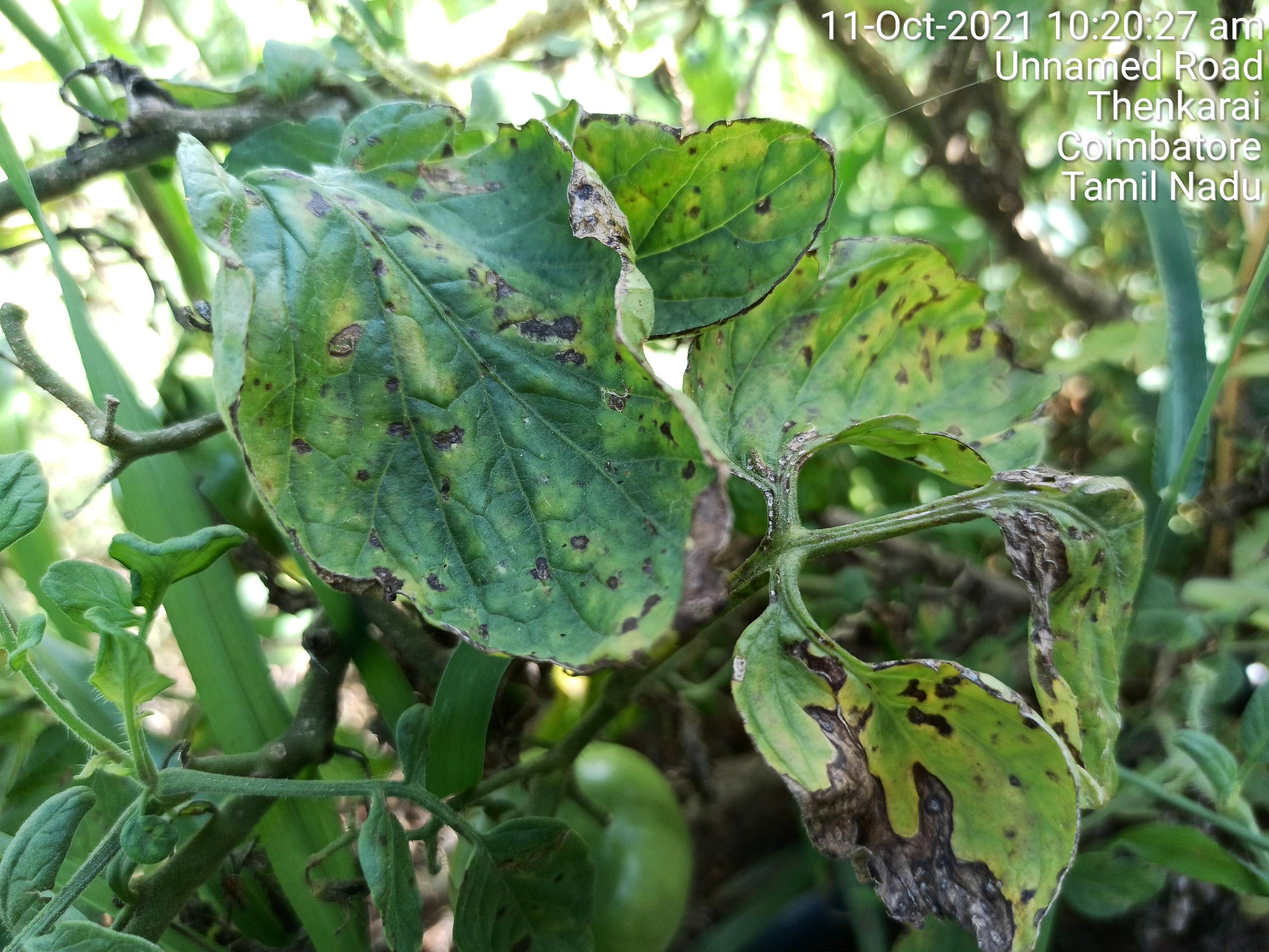Early Blight: (176, 119, 707, 672), (731, 615, 1085, 949), (686, 233, 1061, 486), (984, 456, 1149, 800)
